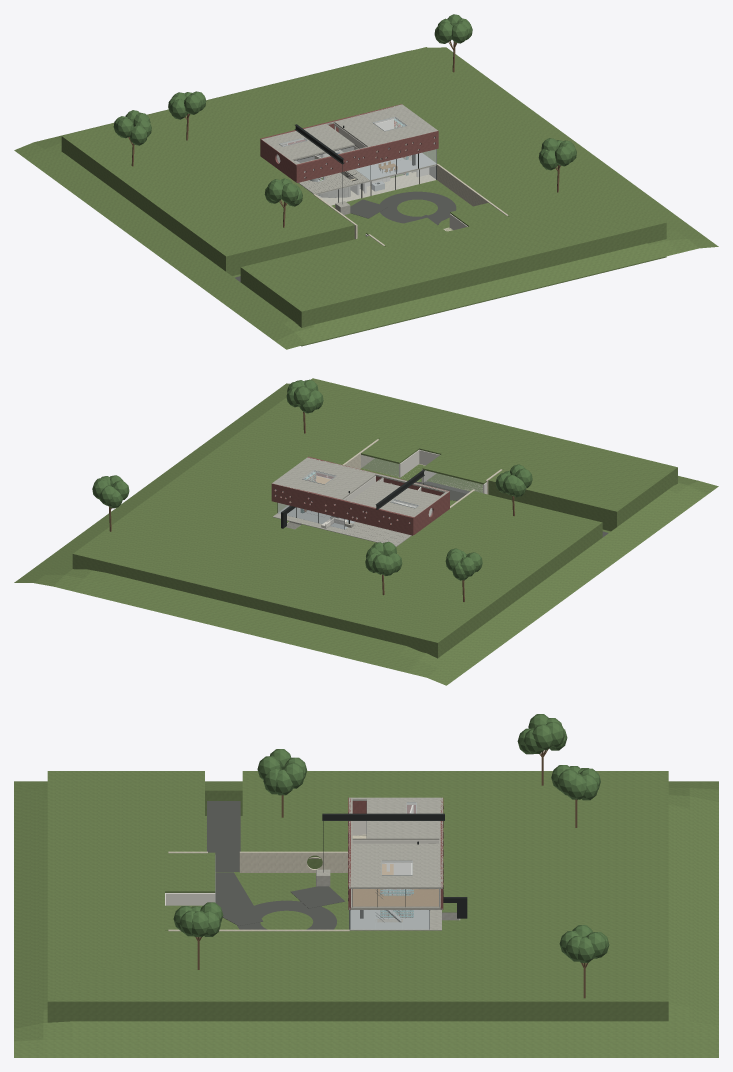
3 renders of one model, top to bottom at view 1: azimuth 30°, elevation 25°; view 2: azimuth 150°, elevation 25°; view 3: azimuth 270°, elevation 25°, orthographic. The views are drawn at different scales.
Visible parts, largest first — view 1: 19_Complete_Architecture; view 2: 19_Complete_Architecture; view 3: 19_Complete_Architecture.
Boxes of the visible parts, left/top/right/bottom form: 19_Complete_Architecture: left=14, top=14, right=718, bottom=349; 19_Complete_Architecture: left=14, top=378, right=718, bottom=685; 19_Complete_Architecture: left=14, top=714, right=718, bottom=1057.
Size of the model in its own units: 77 by 14.94 by 84.
Materials: 21 (5 with a texture image).
